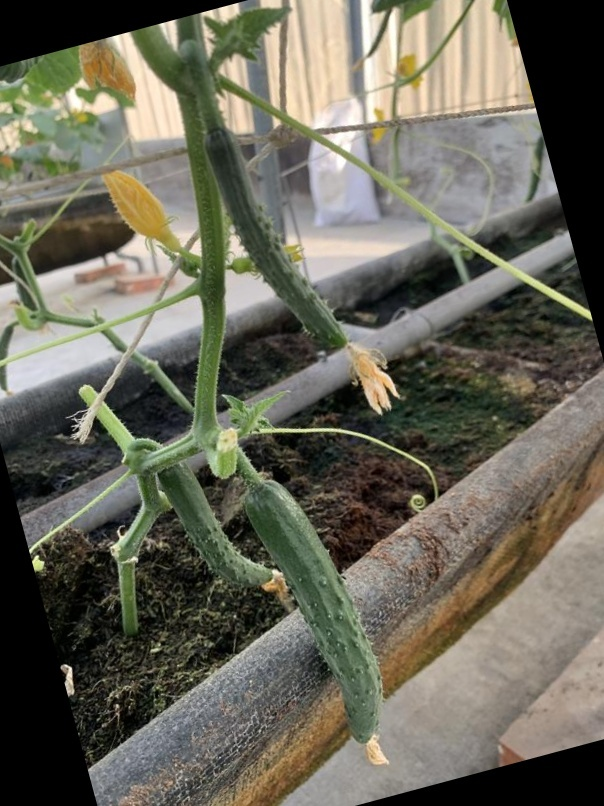bud: (100, 166, 178, 253)
growth: (204, 124, 370, 361), (156, 459, 278, 590)
mature: (244, 478, 386, 752)
